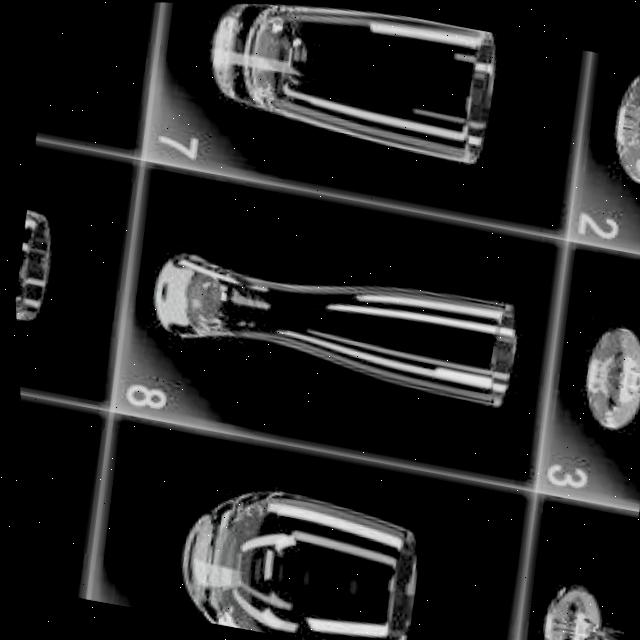glass: (133, 226, 530, 410), (187, 2, 500, 165), (155, 474, 429, 640), (557, 280, 640, 474), (591, 53, 640, 201), (522, 576, 624, 640)
